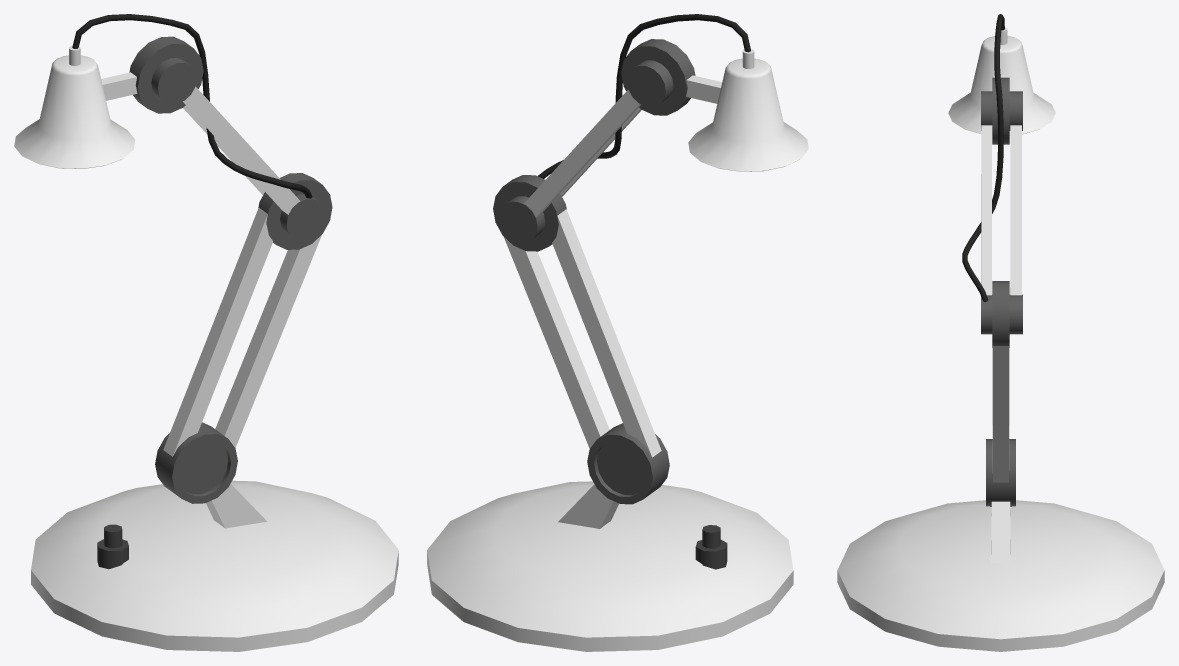
The model's file is Office Lamp02.fbx.
The picture shows the model from 3 angles, left to right: view 1: azimuth 30°, elevation 25°; view 2: azimuth 150°, elevation 25°; view 3: azimuth 270°, elevation 25°; orthographic projection. The views are drawn at different scales.
Visible parts, largest first — view 1: Office Lamp02; view 2: Office Lamp02; view 3: Office Lamp02.
Boxes of the visible parts, x1,y1,x2,y2 form: Office Lamp02: (14, 14, 398, 651); Office Lamp02: (427, 14, 808, 651); Office Lamp02: (837, 14, 1164, 651).
Size of the model in its own units: 0.2267 by 0.2063 by 0.3595.
